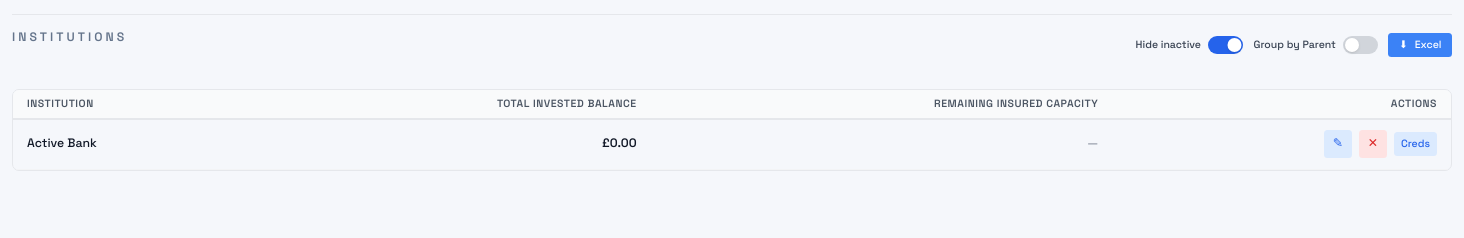
Scenario: InstitutionsPanel hide inactive toggle › shows all institutions when hide inactive is toggled off
Click the button named "Hide institutions with no accounts in current view".
click(1226, 45)  # box x1=1208 y1=36 x2=1243 y2=54
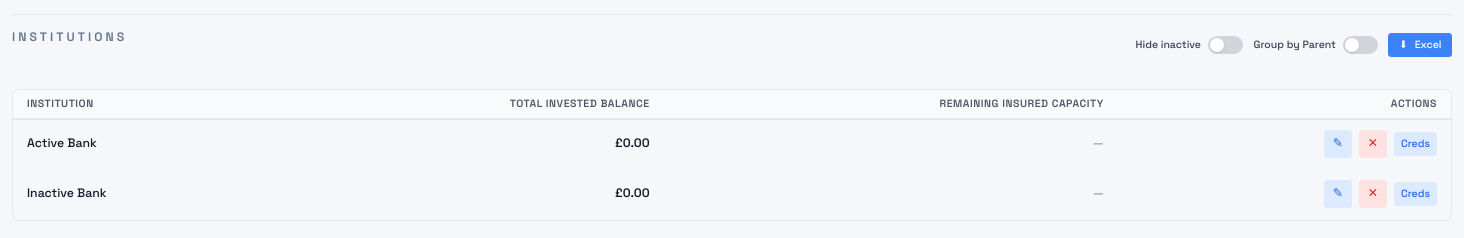
Expected: the text "Active Bank" is shown, x1=13 y1=118 x2=267 y2=169
Result: the text "Inactive Bank" is shown at x1=13 y1=169 x2=267 y2=219
